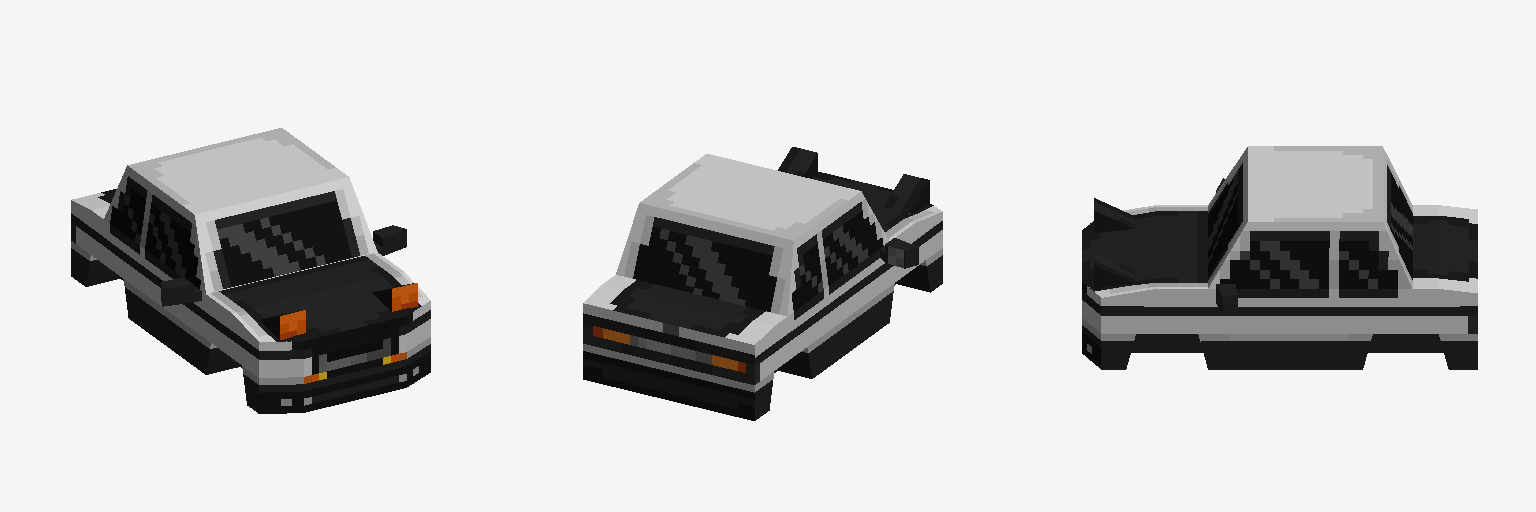
3 views of the same model, side by side, from view 1: azimuth 30°, elevation 25°; view 2: azimuth 150°, elevation 25°; view 3: azimuth 270°, elevation 25° (orthographic).
Parts seen in each view (by area): view 1: body, mirror_right, headlight_left, headlight_right, mirror_left; view 2: body, headlight_left, headlight_right, mirror_right; view 3: body, headlight_right, headlight_left, mirror_left.
Part boxes in pixels (x1,y1,x2,y2): body: (71,128,430,413); mirror_right: (161,277,201,306); headlight_left: (260,310,305,339); headlight_right: (372,283,417,311); mirror_left: (373,225,406,255); body: (583,154,942,420); headlight_left: (884,174,929,213); headlight_right: (778,147,817,178); mirror_right: (880,238,918,268); body: (1082,146,1477,369); headlight_right: (1094,252,1134,288); headlight_left: (1094,198,1135,232); mirror_left: (1216,284,1237,315).
Size of the model in its own units: 1.78 by 1 by 2.5.
Materials: 1 (1 with a texture image).